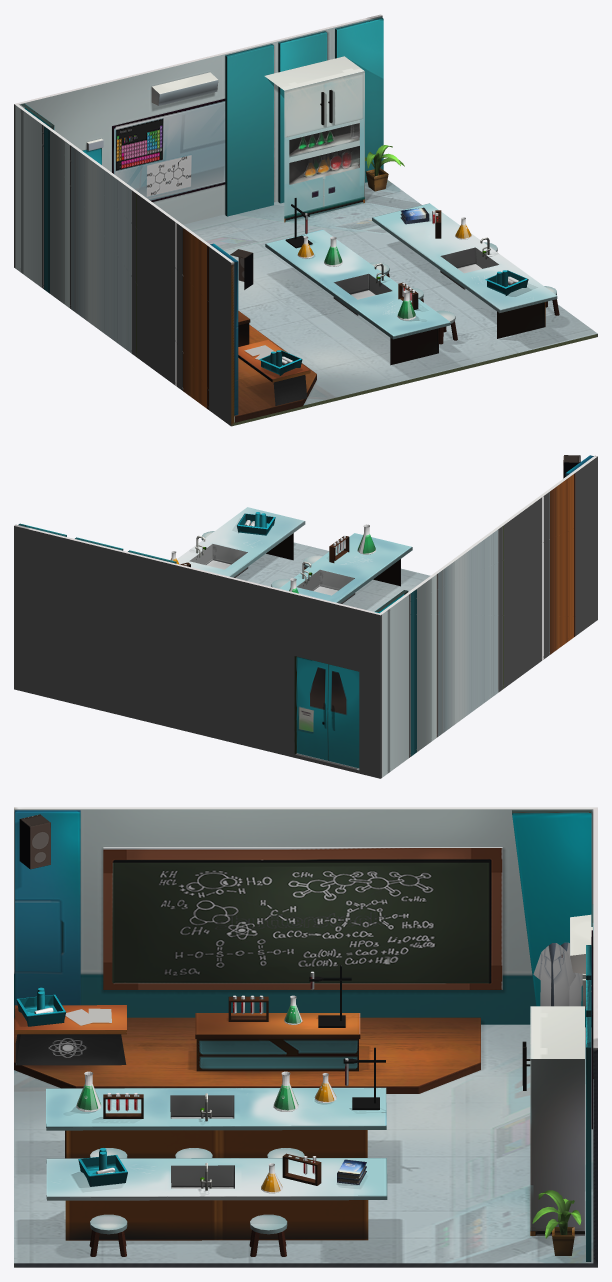
Rendered from Tx_Interior_Education_Science_20170704.fbx.
The picture shows the model from 3 angles, top to bottom: view 1: azimuth 30°, elevation 25°; view 2: azimuth 150°, elevation 25°; view 3: azimuth 270°, elevation 25°; orthographic projection. The views are drawn at different scales.
Visible parts, largest first — view 1: group12, polySurface795; view 2: group12, polySurface795; view 3: group12, polySurface795.
Boxes of the visible parts, x1,y1,x2,y2 form: group12: (14,14,597,426); polySurface795: (270,210,519,367); group12: (14,455,597,778); polySurface795: (170,512,375,593); group12: (14,807,597,1267); polySurface795: (34,987,336,1193).
Size of the model in its own units: 53.09 by 22.3 by 53.69.
Materials: 6 (6 with a texture image).
